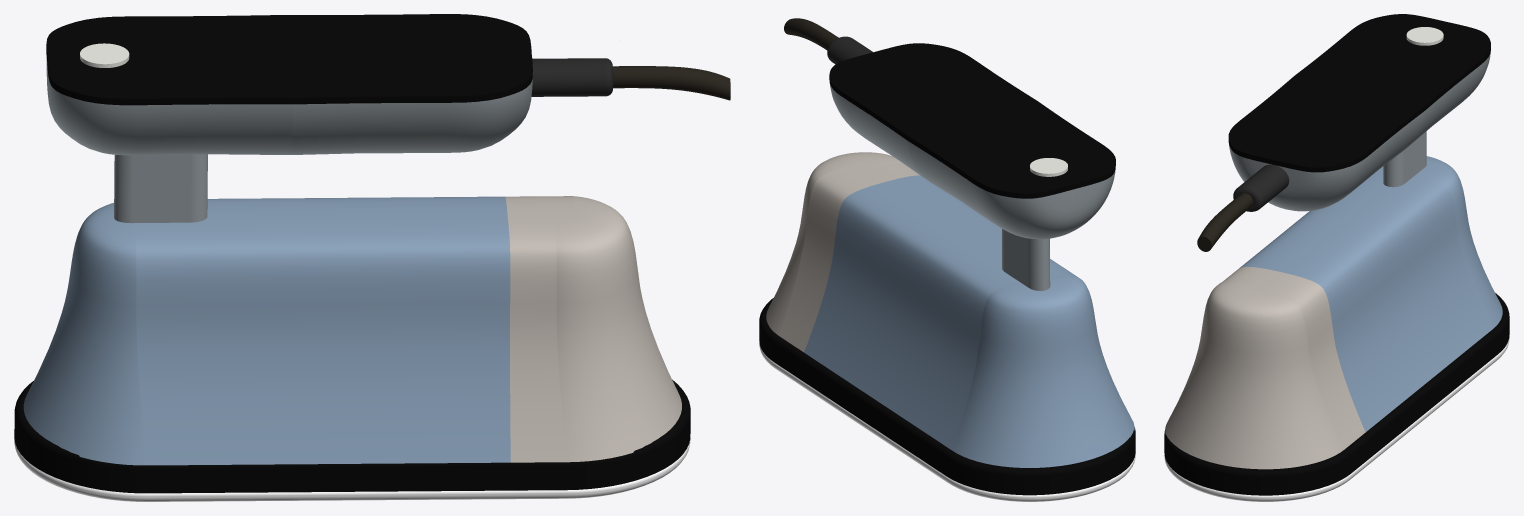
The model's file is materialvaariatnt.glb.
The picture shows the model from 3 angles, left to right: view 1: azimuth 30°, elevation 25°; view 2: azimuth 150°, elevation 25°; view 3: azimuth 270°, elevation 25°; orthographic projection. The views are drawn at different scales.
Visible parts, largest first — view 1: iron_body(281C9E8A-FD22-4EEF-A97D-0A724AD2559B), top_trim_of_handle(7901EF79-7DE3-4FC3-9682-6C11B62D9468), front_split_of_iron(8476C382-B789-4573-A481-8793802FEE4B), handle(83CF3B8D-CE1F-4CE3-8FDF-CD82395C080D), bottom_base_of_iron(482D4F63-5F95-4078-BAB5-EB48DEECE46A), bottom_trim_of_iron_base(A37BDD29-CED3-493B-BC05-CF797D7E4A7, connector(19738151-DBCD-49C5-B8E2-80A72FB4A423), wire(CE016E4D-EF24-4C61-B998-8F8960385819), button(17029B10-1A26-46D2-ADAA-2420784702BE); view 2: iron_body(281C9E8A-FD22-4EEF-A97D-0A724AD2559B), top_trim_of_handle(7901EF79-7DE3-4FC3-9682-6C11B62D9468), bottom_base_of_iron(482D4F63-5F95-4078-BAB5-EB48DEECE46A), handle(83CF3B8D-CE1F-4CE3-8FDF-CD82395C080D), front_split_of_iron(8476C382-B789-4573-A481-8793802FEE4B), bottom_trim_of_iron_base(A37BDD29-CED3-493B-BC05-CF797D7E4A7, wire(CE016E4D-EF24-4C61-B998-8F8960385819), connector(19738151-DBCD-49C5-B8E2-80A72FB4A423), button(17029B10-1A26-46D2-ADAA-2420784702BE); view 3: iron_body(281C9E8A-FD22-4EEF-A97D-0A724AD2559B), front_split_of_iron(8476C382-B789-4573-A481-8793802FEE4B), top_trim_of_handle(7901EF79-7DE3-4FC3-9682-6C11B62D9468), bottom_base_of_iron(482D4F63-5F95-4078-BAB5-EB48DEECE46A), handle(83CF3B8D-CE1F-4CE3-8FDF-CD82395C080D), bottom_trim_of_iron_base(A37BDD29-CED3-493B-BC05-CF797D7E4A7, connector(19738151-DBCD-49C5-B8E2-80A72FB4A423), wire(CE016E4D-EF24-4C61-B998-8F8960385819), button(17029B10-1A26-46D2-ADAA-2420784702BE).
Part boxes in pixels (x1,y1,x2,y2): iron_body(281C9E8A-FD22-4EEF-A97D-0A724AD2559B): [23, 196, 510, 465]; top_trim_of_handle(7901EF79-7DE3-4FC3-9682-6C11B62D9468): [46, 14, 532, 105]; front_split_of_iron(8476C382-B789-4573-A481-8793802FEE4B): [505, 196, 681, 462]; handle(83CF3B8D-CE1F-4CE3-8FDF-CD82395C080D): [46, 54, 532, 223]; bottom_base_of_iron(482D4F63-5F95-4078-BAB5-EB48DEECE46A): [14, 379, 690, 493]; bottom_trim_of_iron_base(A37BDD29-CED3-493B-BC05-CF797D7E4A7: [14, 438, 690, 501]; connector(19738151-DBCD-49C5-B8E2-80A72FB4A423): [531, 58, 613, 96]; wire(CE016E4D-EF24-4C61-B998-8F8960385819): [613, 66, 730, 100]; button(17029B10-1A26-46D2-ADAA-2420784702BE): [80, 43, 129, 67]; iron_body(281C9E8A-FD22-4EEF-A97D-0A724AD2559B): [804, 175, 1134, 467]; top_trim_of_handle(7901EF79-7DE3-4FC3-9682-6C11B62D9468): [829, 43, 1115, 198]; bottom_base_of_iron(482D4F63-5F95-4078-BAB5-EB48DEECE46A): [759, 298, 1135, 495]; handle(83CF3B8D-CE1F-4CE3-8FDF-CD82395C080D): [829, 83, 1115, 290]; front_split_of_iron(8476C382-B789-4573-A481-8793802FEE4B): [766, 152, 919, 352]; bottom_trim_of_iron_base(A37BDD29-CED3-493B-BC05-CF797D7E4A7: [759, 341, 1135, 501]; wire(CE016E4D-EF24-4C61-B998-8F8960385819): [784, 18, 838, 50]; connector(19738151-DBCD-49C5-B8E2-80A72FB4A423): [827, 36, 872, 64]; button(17029B10-1A26-46D2-ADAA-2420784702BE): [1030, 158, 1067, 176]; iron_body(281C9E8A-FD22-4EEF-A97D-0A724AD2559B): [1240, 156, 1502, 431]; front_split_of_iron(8476C382-B789-4573-A481-8793802FEE4B): [1165, 267, 1365, 469]; top_trim_of_handle(7901EF79-7DE3-4FC3-9682-6C11B62D9468): [1228, 14, 1490, 172]; bottom_base_of_iron(482D4F63-5F95-4078-BAB5-EB48DEECE46A): [1164, 293, 1509, 495]; handle(83CF3B8D-CE1F-4CE3-8FDF-CD82395C080D): [1229, 53, 1490, 211]; bottom_trim_of_iron_base(A37BDD29-CED3-493B-BC05-CF797D7E4A7: [1164, 336, 1509, 501]; connector(19738151-DBCD-49C5-B8E2-80A72FB4A423): [1233, 164, 1289, 211]; wire(CE016E4D-EF24-4C61-B998-8F8960385819): [1197, 193, 1253, 251]; button(17029B10-1A26-46D2-ADAA-2420784702BE): [1406, 27, 1443, 45].
Size of the model in its own units: 0.089 by 0.0613 by 0.0625.
